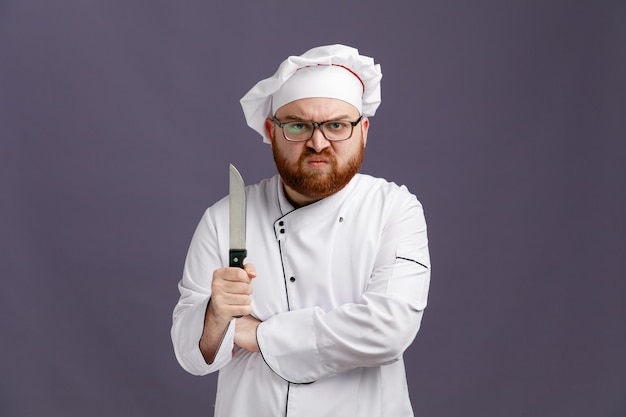knife: (230, 163, 249, 251)
